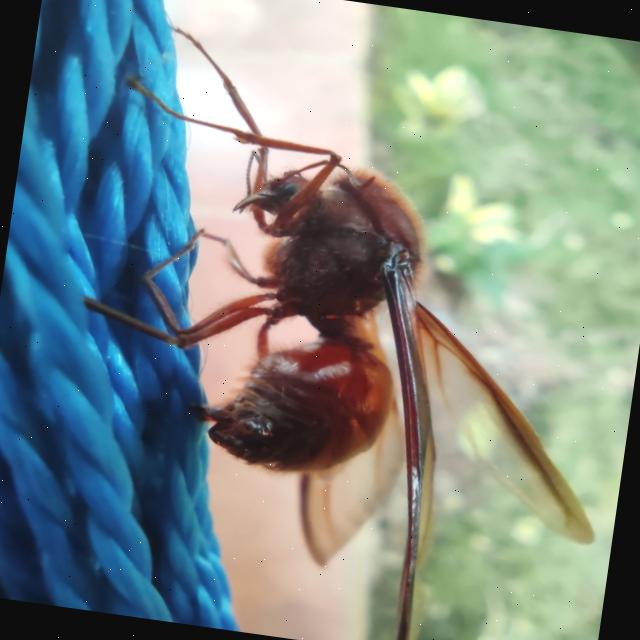Alive-Male-Alate: (43, 18, 640, 640)
